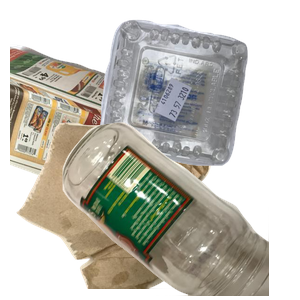glass: (60, 120, 300, 300)
paper: (10, 42, 224, 222)
plastic: (97, 17, 300, 176)
trash: (14, 120, 222, 300)
